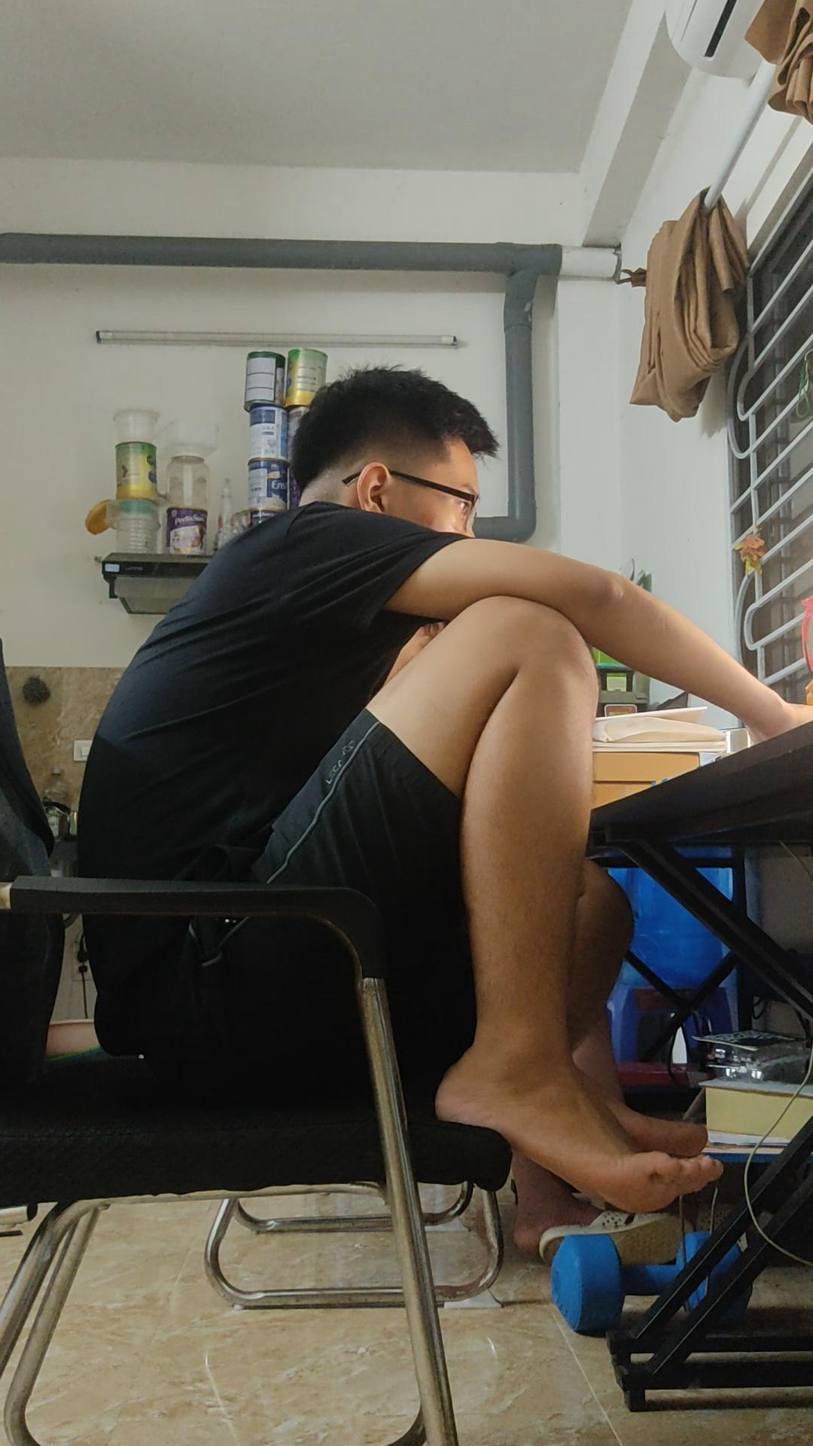BadPosture: (371, 599, 704, 1249)
